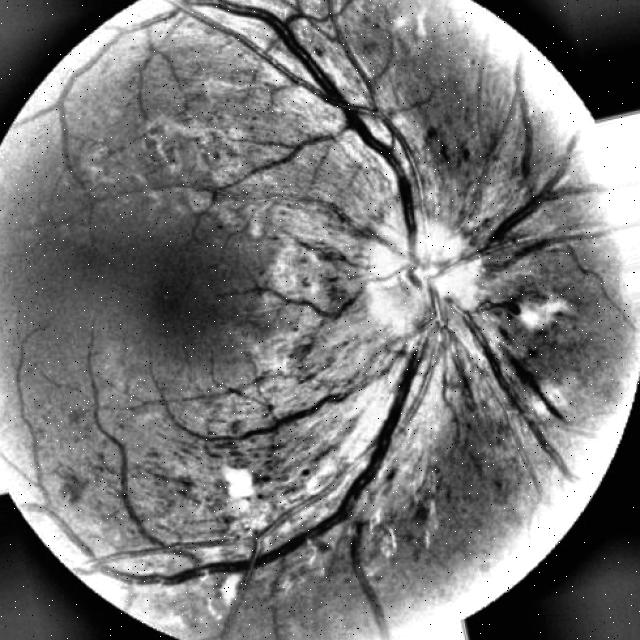Nerves: (37, 0, 607, 592)
